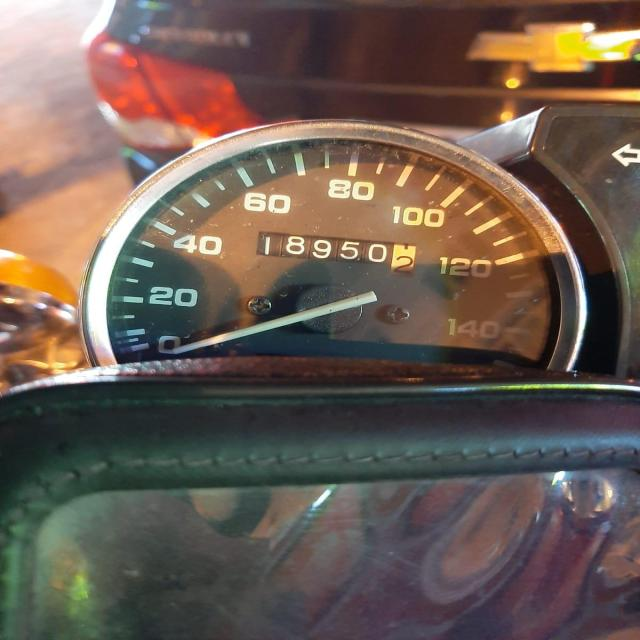odometer: (253, 230, 422, 276)
